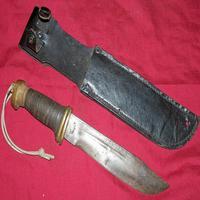knife: (6, 74, 166, 200)
